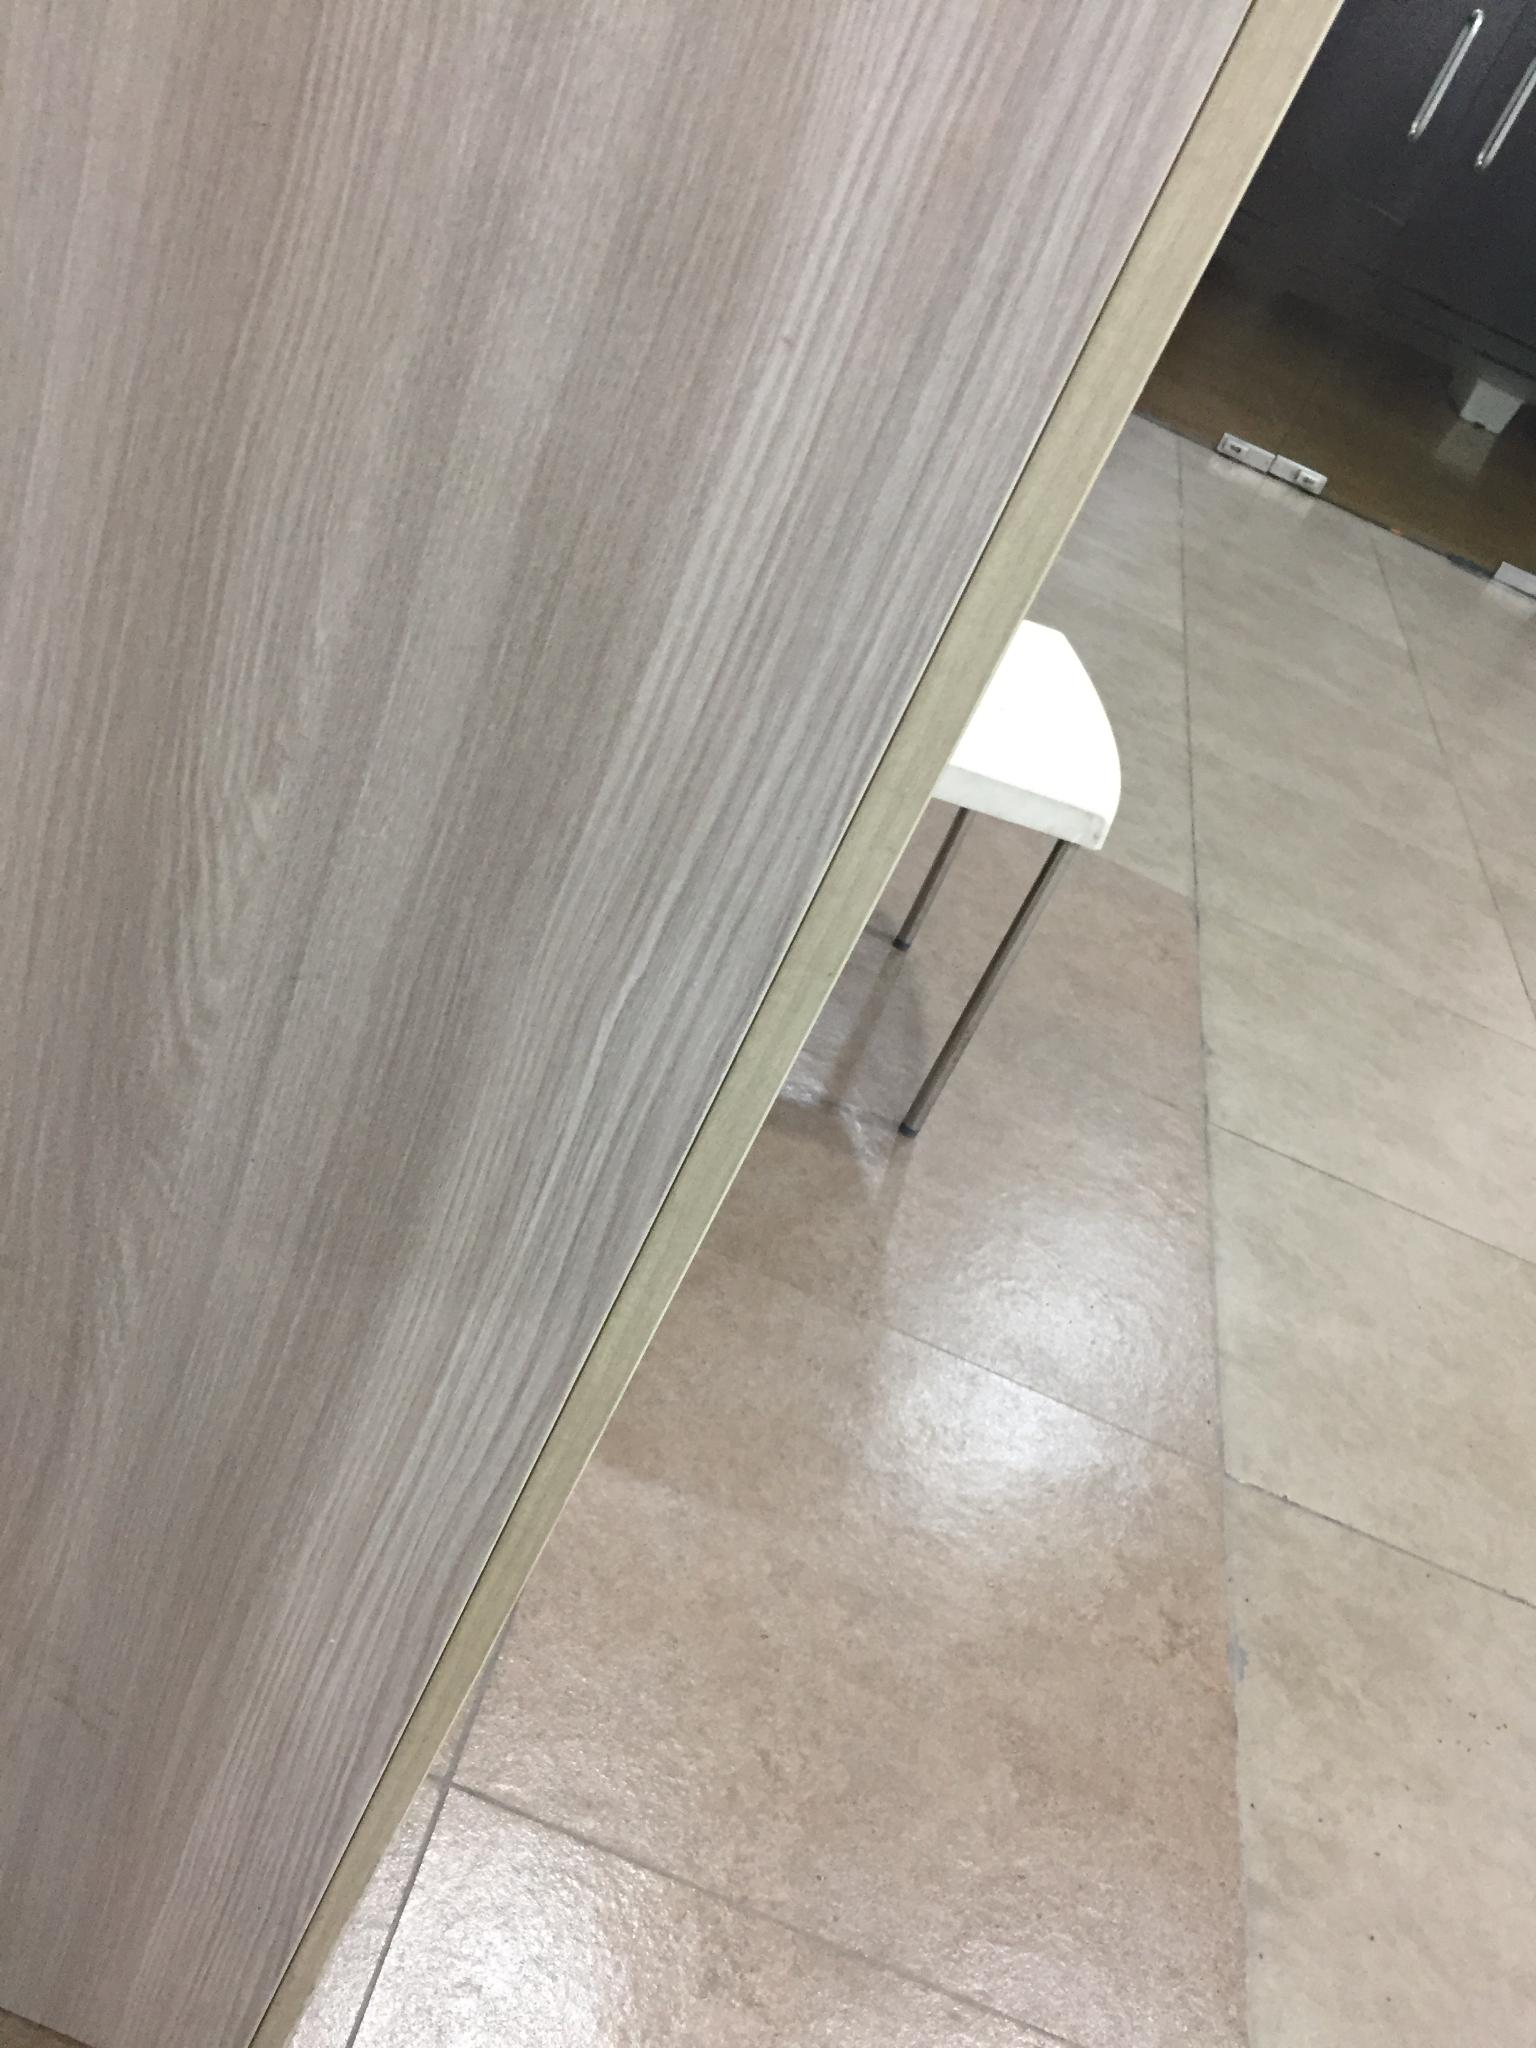chair: (883, 616, 1123, 1137)
